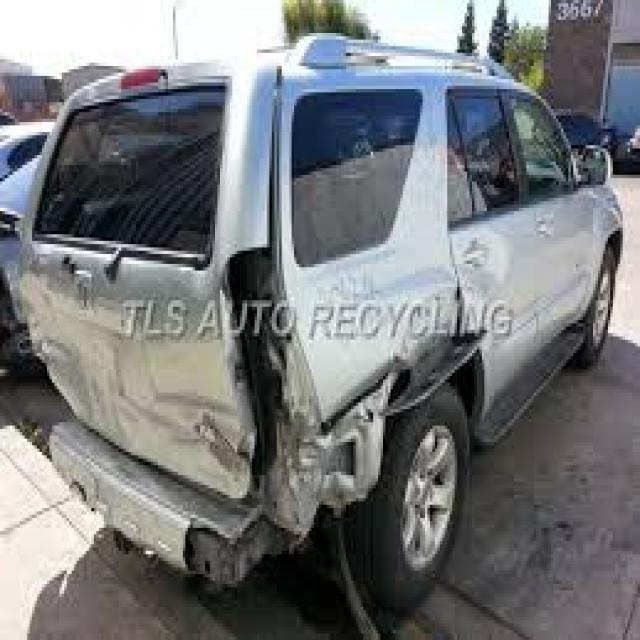moderate: (14, 219, 393, 553)
